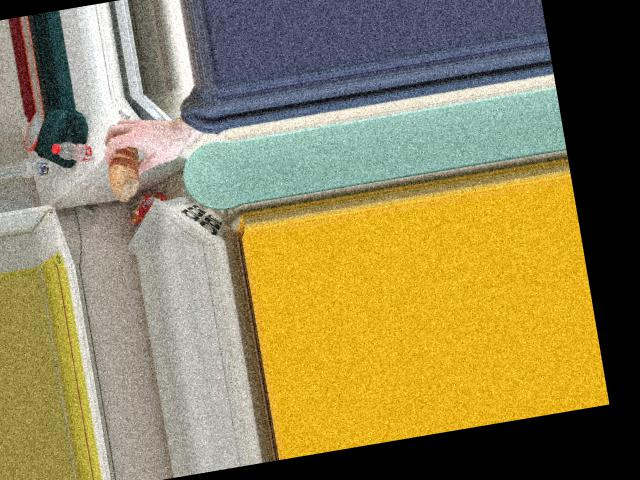sweet_potato: (108, 129, 158, 186)
